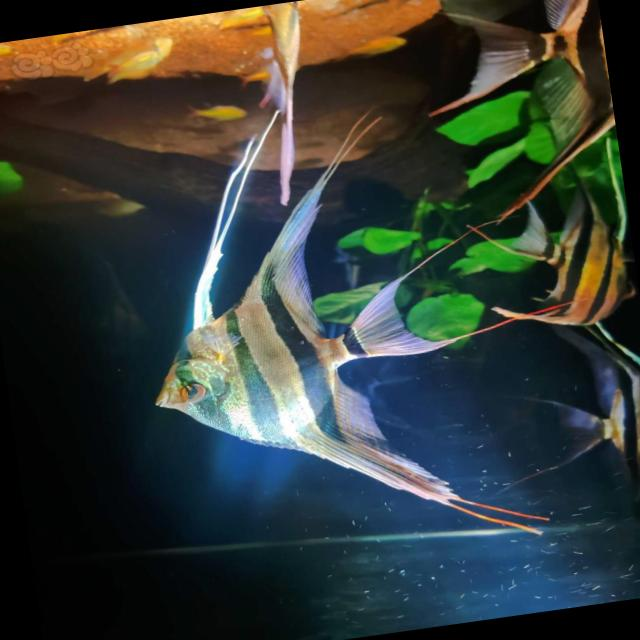AngelFish: (109, 47, 554, 585), (424, 0, 618, 167), (488, 170, 635, 330), (539, 335, 640, 491)
